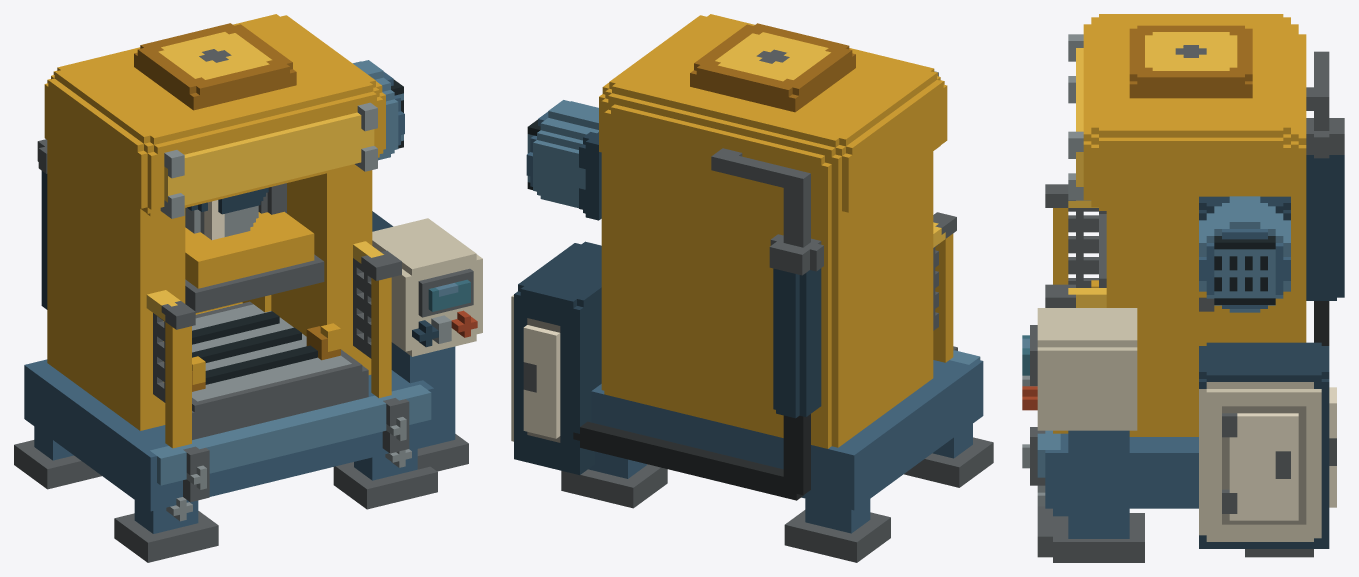
Rendered from production_machine.glb.
3 renders of one model, left to right at view 1: azimuth 30°, elevation 25°; view 2: azimuth 150°, elevation 25°; view 3: azimuth 270°, elevation 25°, orthographic. The views are drawn at different scales.
Visible parts, largest first — view 1: production_machine; view 2: production_machine; view 3: production_machine.
Boxes of the visible parts, bbox=[...] form: production_machine: bbox=[14, 14, 482, 562]; production_machine: bbox=[511, 14, 993, 562]; production_machine: bbox=[1022, 14, 1344, 562].
Bounding box in the file's own units: 4.24 × 4.96 × 3.36.
